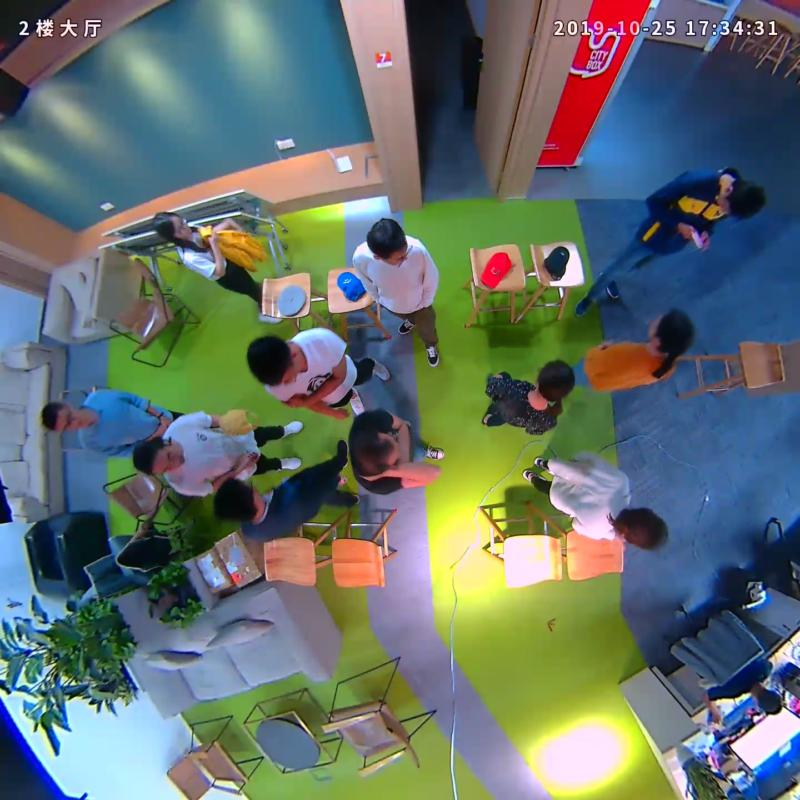head: (246, 334, 297, 386), (350, 427, 401, 477), (212, 478, 265, 524), (617, 506, 668, 551), (366, 216, 409, 265), (647, 309, 693, 354), (132, 438, 183, 475), (717, 180, 766, 217), (536, 359, 574, 404), (41, 401, 87, 433), (153, 211, 191, 239)
